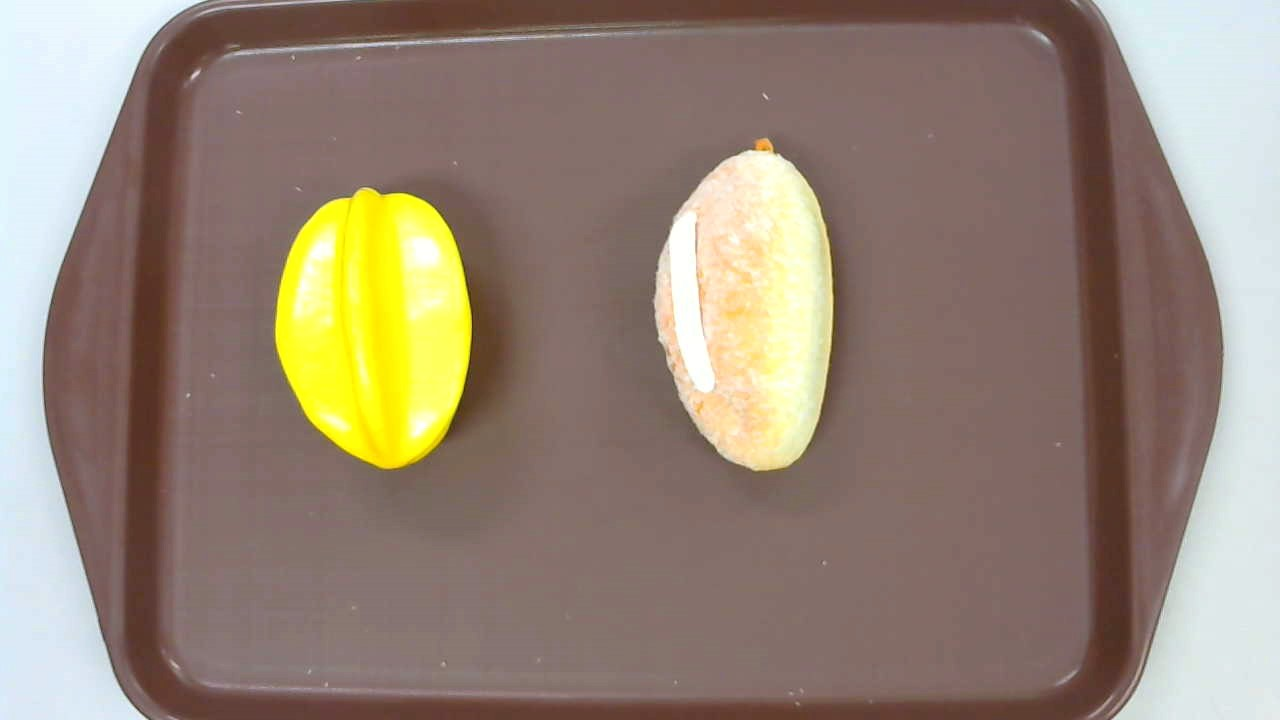coconut: (654, 137, 835, 471)
star fruit: (276, 187, 473, 469)
